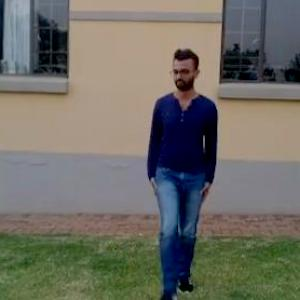follow: (144, 32, 226, 298)
